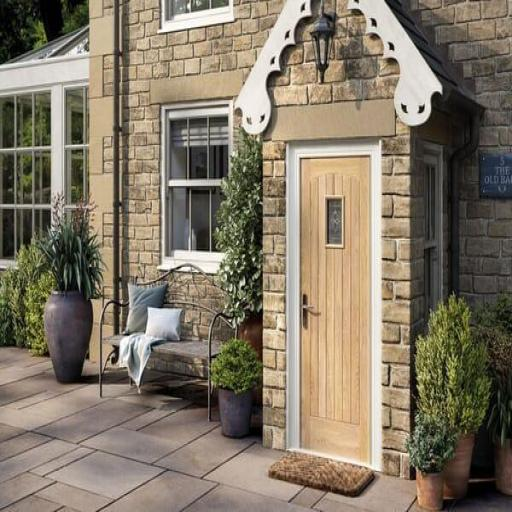door: (268, 127, 406, 500)
